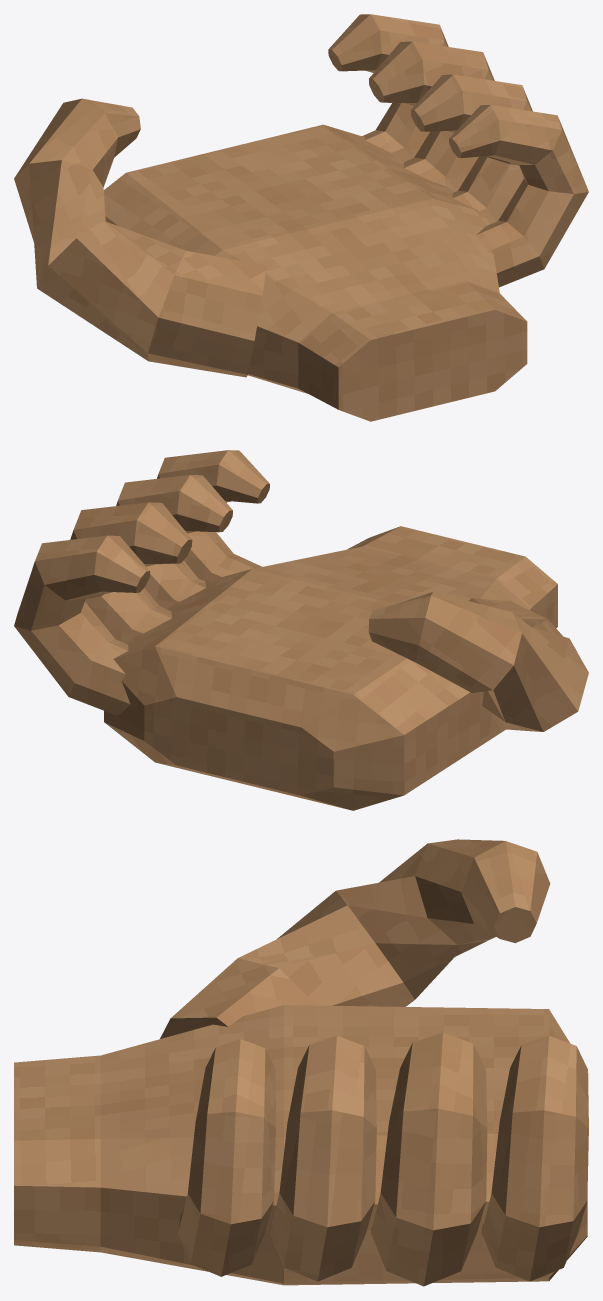
File: retro_mao_3d.glb
3 renders of one model, top to bottom at view 1: azimuth 30°, elevation 25°; view 2: azimuth 150°, elevation 25°; view 3: azimuth 270°, elevation 25°, orthographic. The views are drawn at different scales.
Visible parts, largest first — view 1: retro_mao_3d; view 2: retro_mao_3d; view 3: retro_mao_3d.
Boxes of the visible parts, x1,y1,x2,y2 form: retro_mao_3d: [14, 14, 588, 421]; retro_mao_3d: [14, 450, 588, 810]; retro_mao_3d: [14, 839, 588, 1286].
Size of the model in its own units: 0.1532 by 0.0638 by 0.1193.
Materials: 1 (1 with a texture image).
